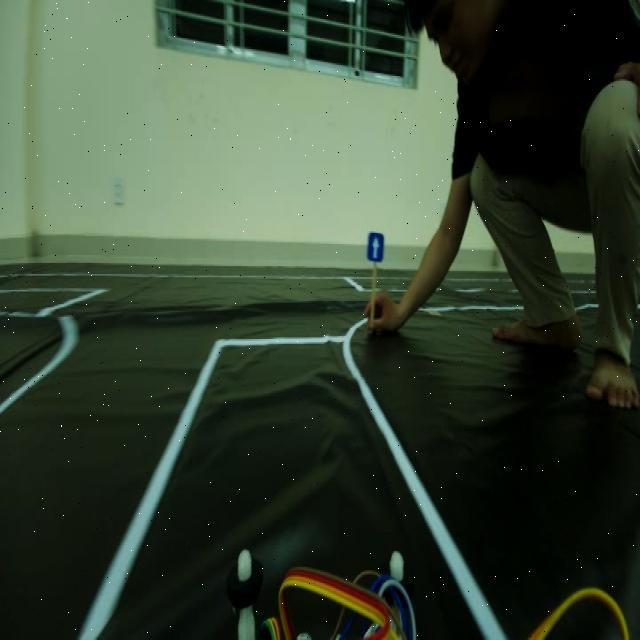onewayroad: (362, 222, 385, 264)
